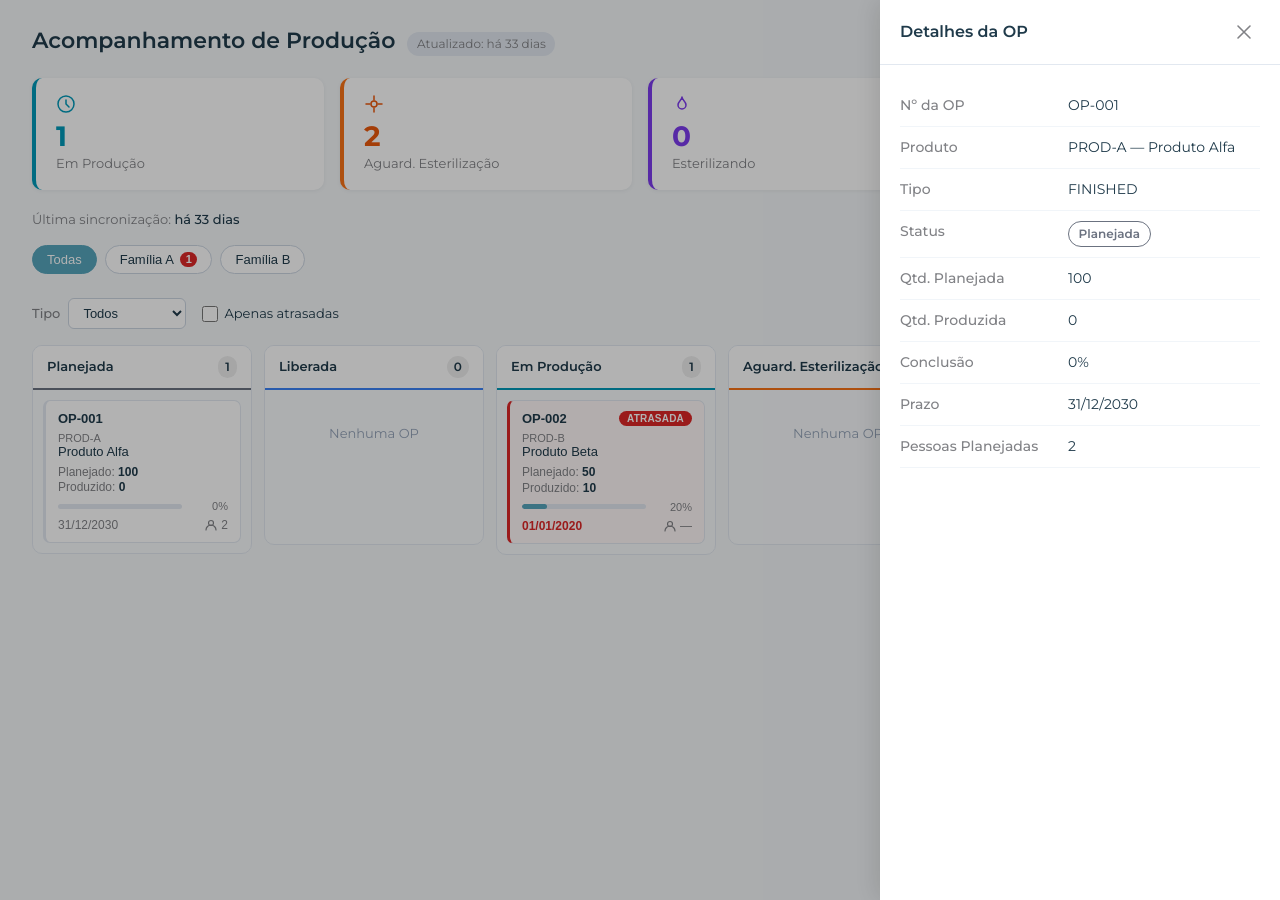
Test: ProductionTrackingComponent › painel lateral fecha ao clicar no backdrop
The image size is (1280, 900).
Expected: the element with test id "side-panel" is shown, top-left (880, 0), bottom-right (1279, 899)
// Click backdrop
Click the element with test id "drawer-backdrop".
click(640, 450)  # box top-left (0, 0), bottom-right (1279, 899)
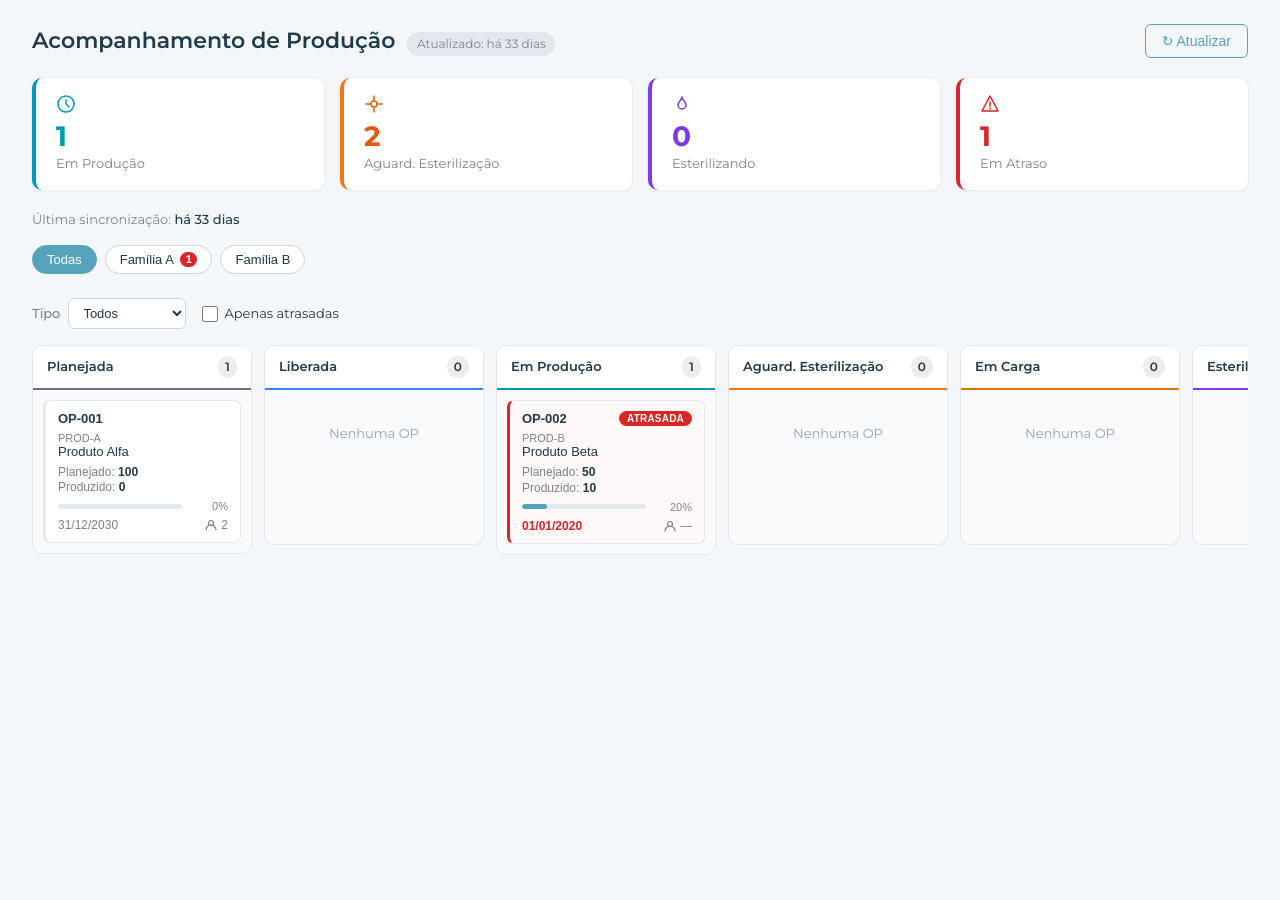
Expected: the element with test id "side-panel" is gone
